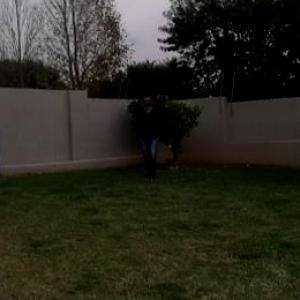follow: (138, 92, 160, 181)
